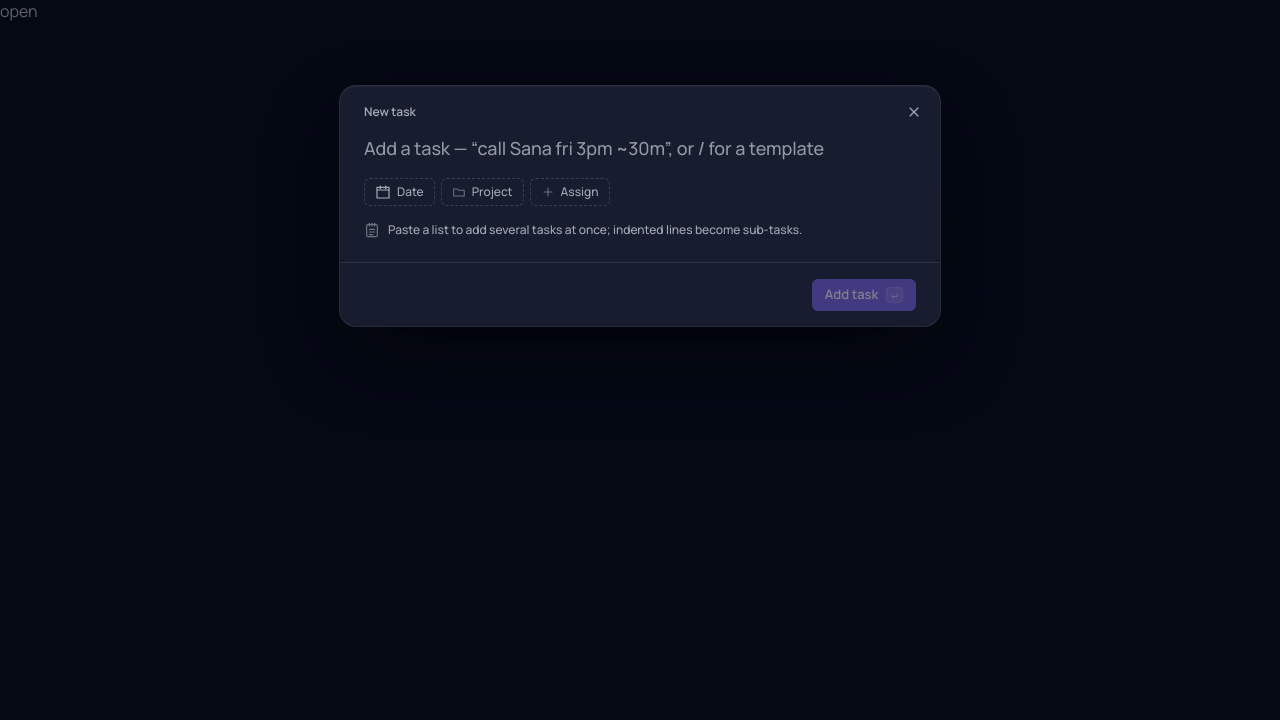
Test case: QuickCapture › highlights each token it reads, in place, and confirms it as a chip
Type "call Sana fri 3pm ~30m #launch" into the text box named "Quick capture a task". click: {"x": 640, "y": 148}
box: [364,134,916,162]
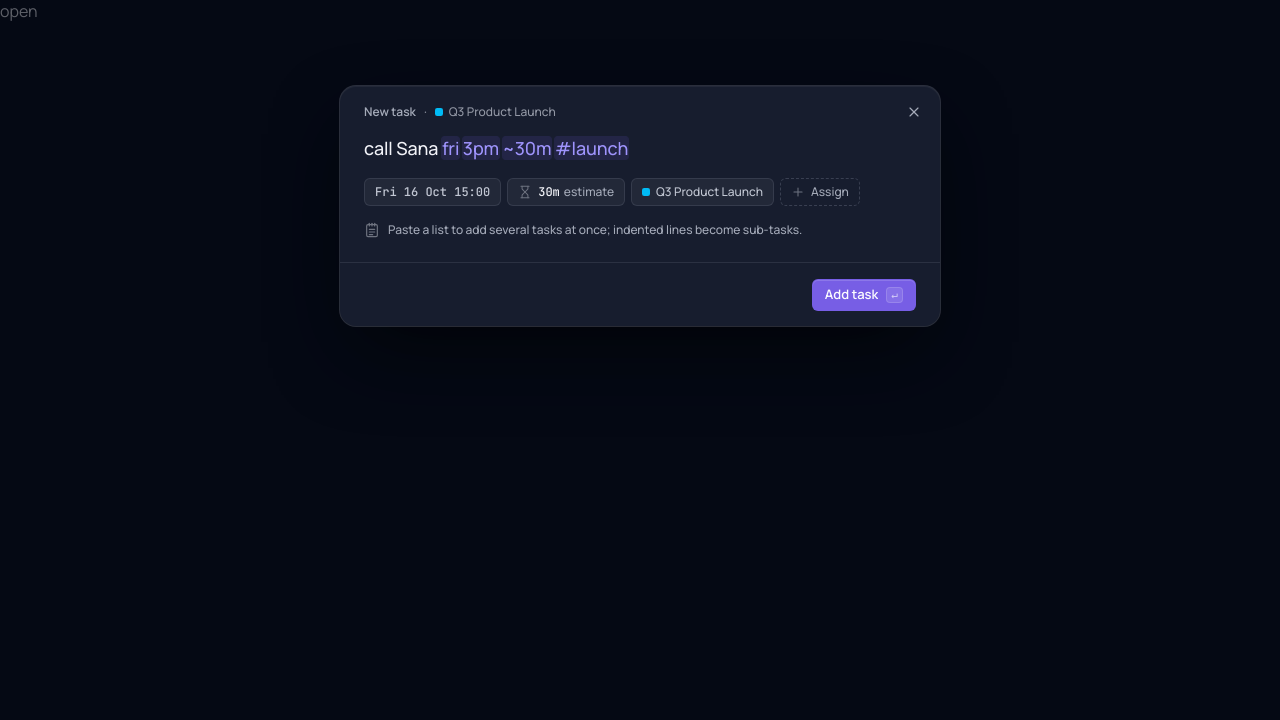
Expected: the element named "Task details" shows "15:00", [364,178,501,206]
Expected: the element named "Task details" shows "30m", [538,184,560,200]
Expected: the element named "Task details" shows "Q3 Product Launch", [631,178,774,206]
